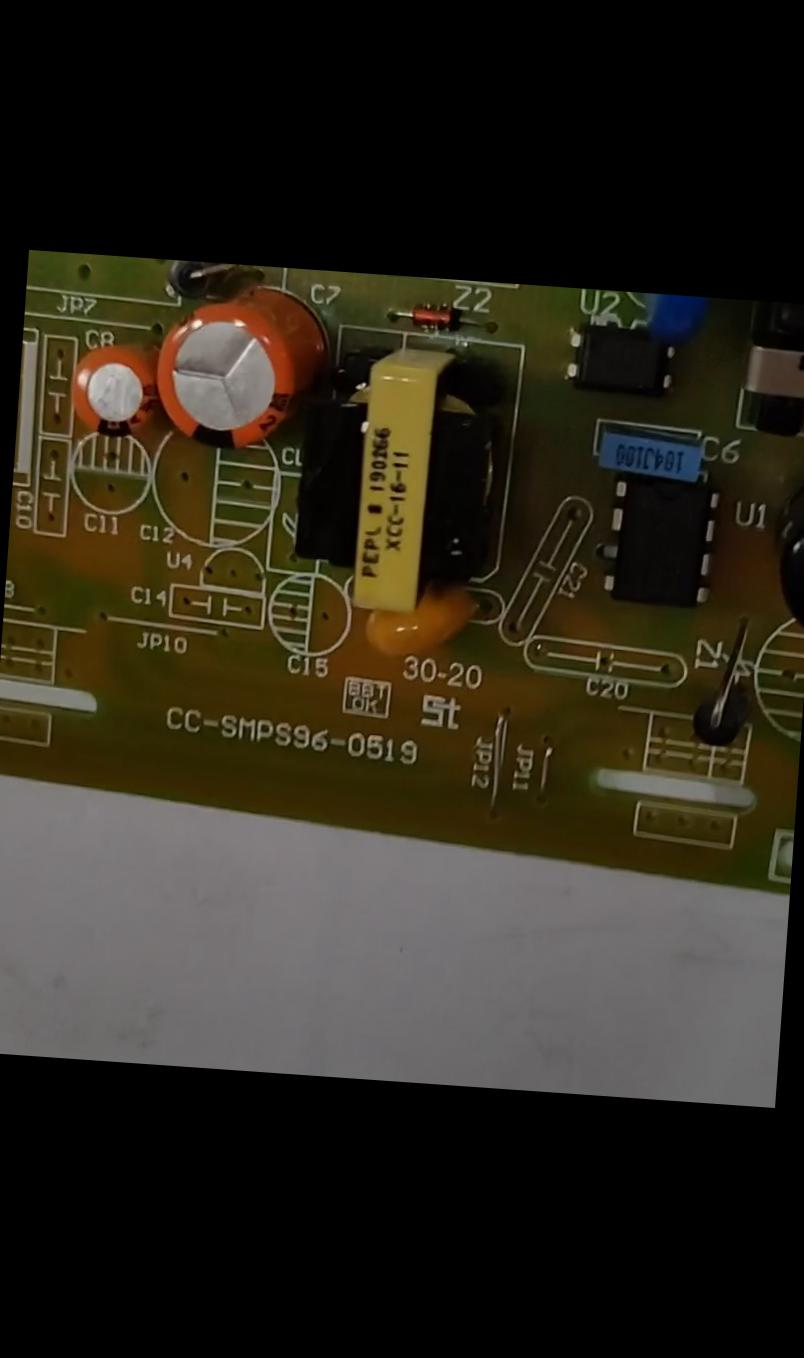Cap1: (146, 291, 309, 457)
Cap2: (63, 340, 158, 444)
Cap3: (776, 475, 803, 636)
MOSFET: (601, 482, 721, 602)
Mov: (638, 294, 712, 342)
Transformer: (284, 342, 506, 615), (738, 301, 803, 436)
